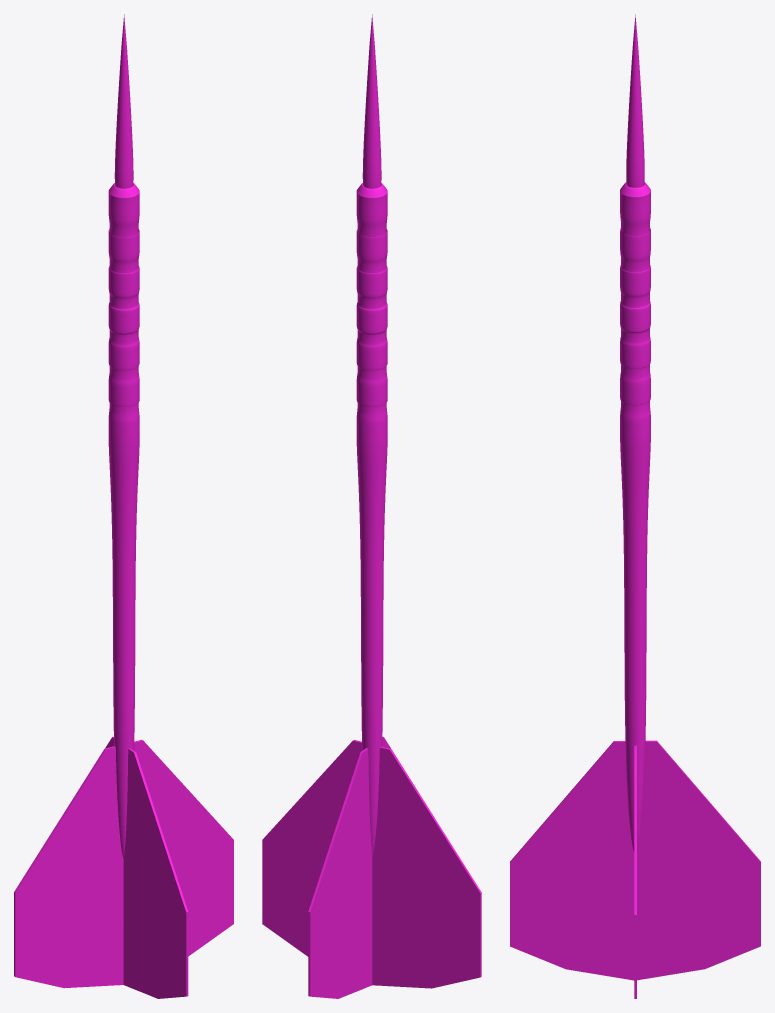
File: Dart_pink.fbx
3 views of the same model, side by side, from view 1: azimuth 30°, elevation 25°; view 2: azimuth 150°, elevation 25°; view 3: azimuth 270°, elevation 25° (orthographic).
Visible parts, largest first — view 1: body; view 2: body; view 3: body.
Part boxes in pixels (x1,y1,x2,y2): body: (14, 14, 233, 998); body: (262, 14, 481, 998); body: (510, 14, 760, 998).
Size of the model in its own units: 28.45 by 121 by 28.45.
